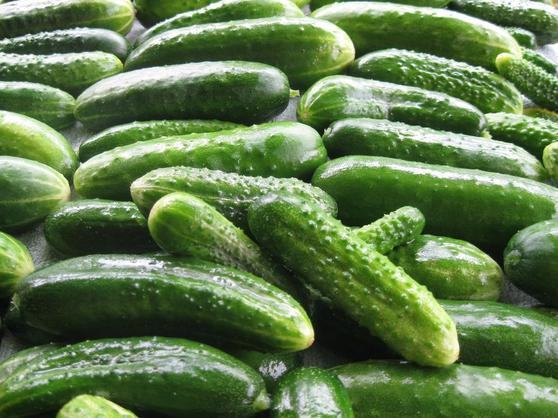cucumber: (244, 188, 466, 375)
